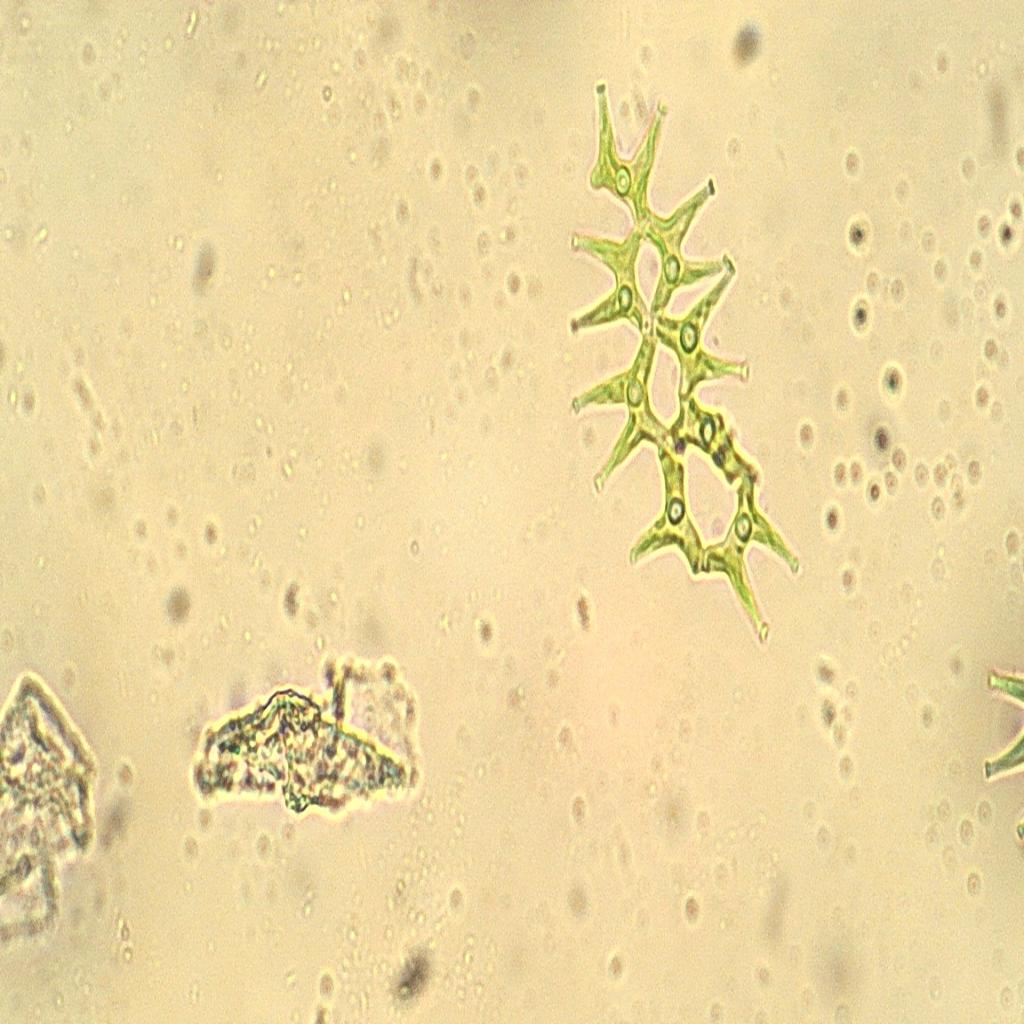Pediastrum_CFI: (557, 71, 810, 680)
